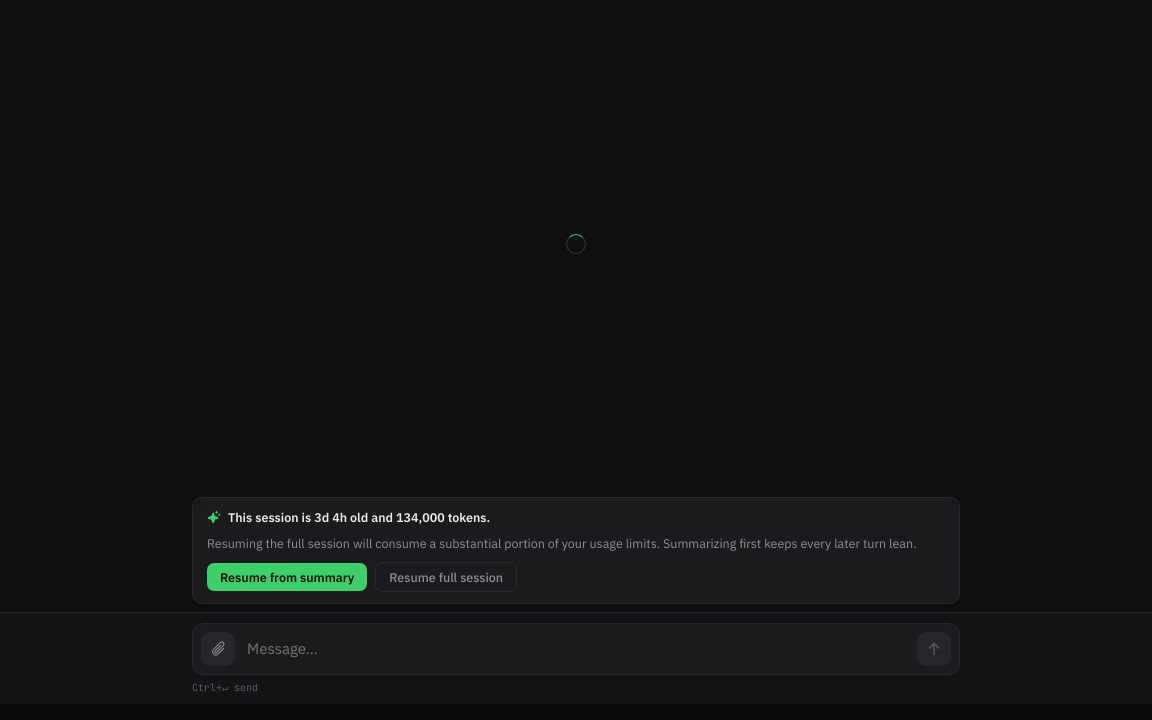
it: ChatView — resume-from-summary advice › offers the resume choice for an old, large thread and compacts on accept
Click the button "Resume from summary": x=287, y=577 [207,563,367,591]
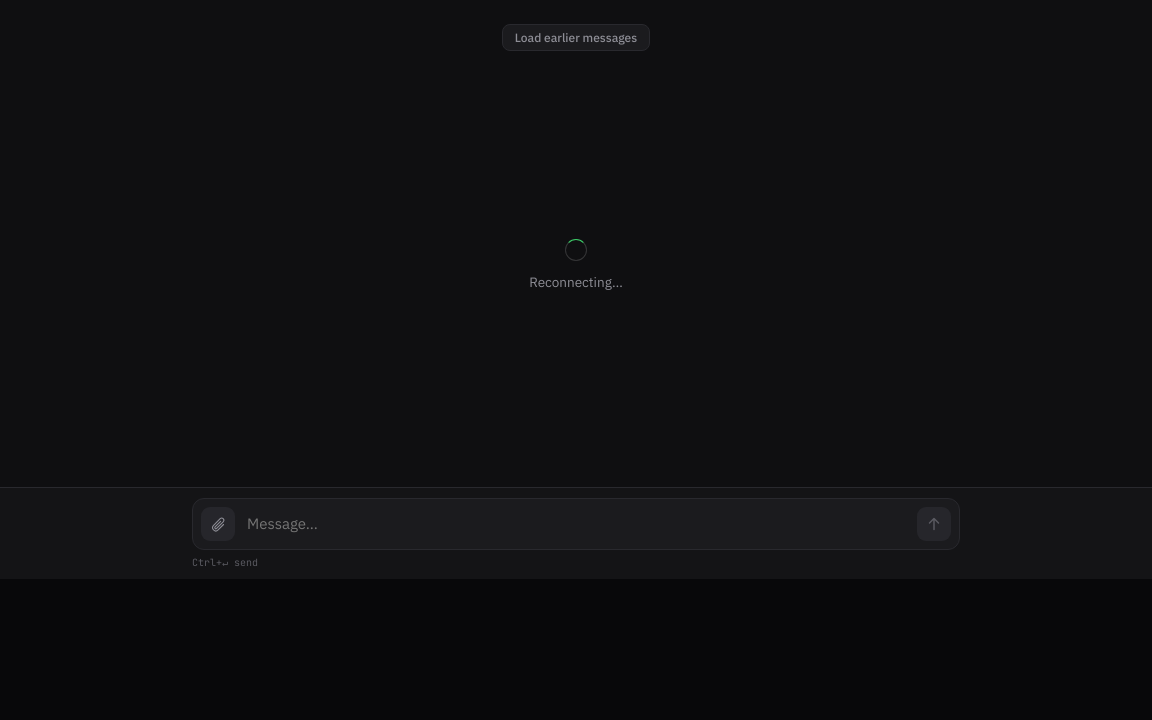
Expected: the button "Resume from summary" is gone
